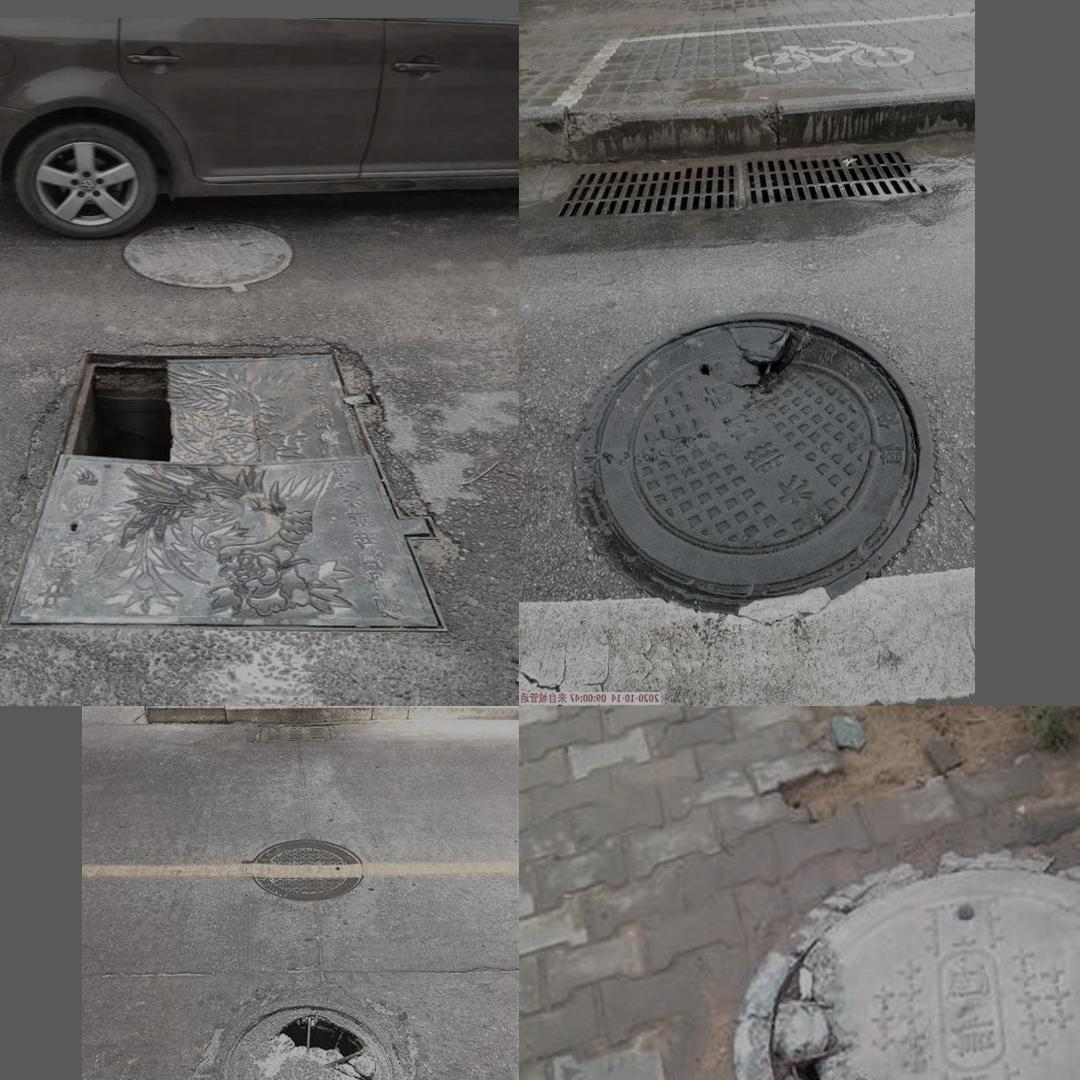broke: (0, 322, 471, 653), (568, 296, 943, 631), (730, 841, 1080, 1080), (161, 973, 429, 1080)
